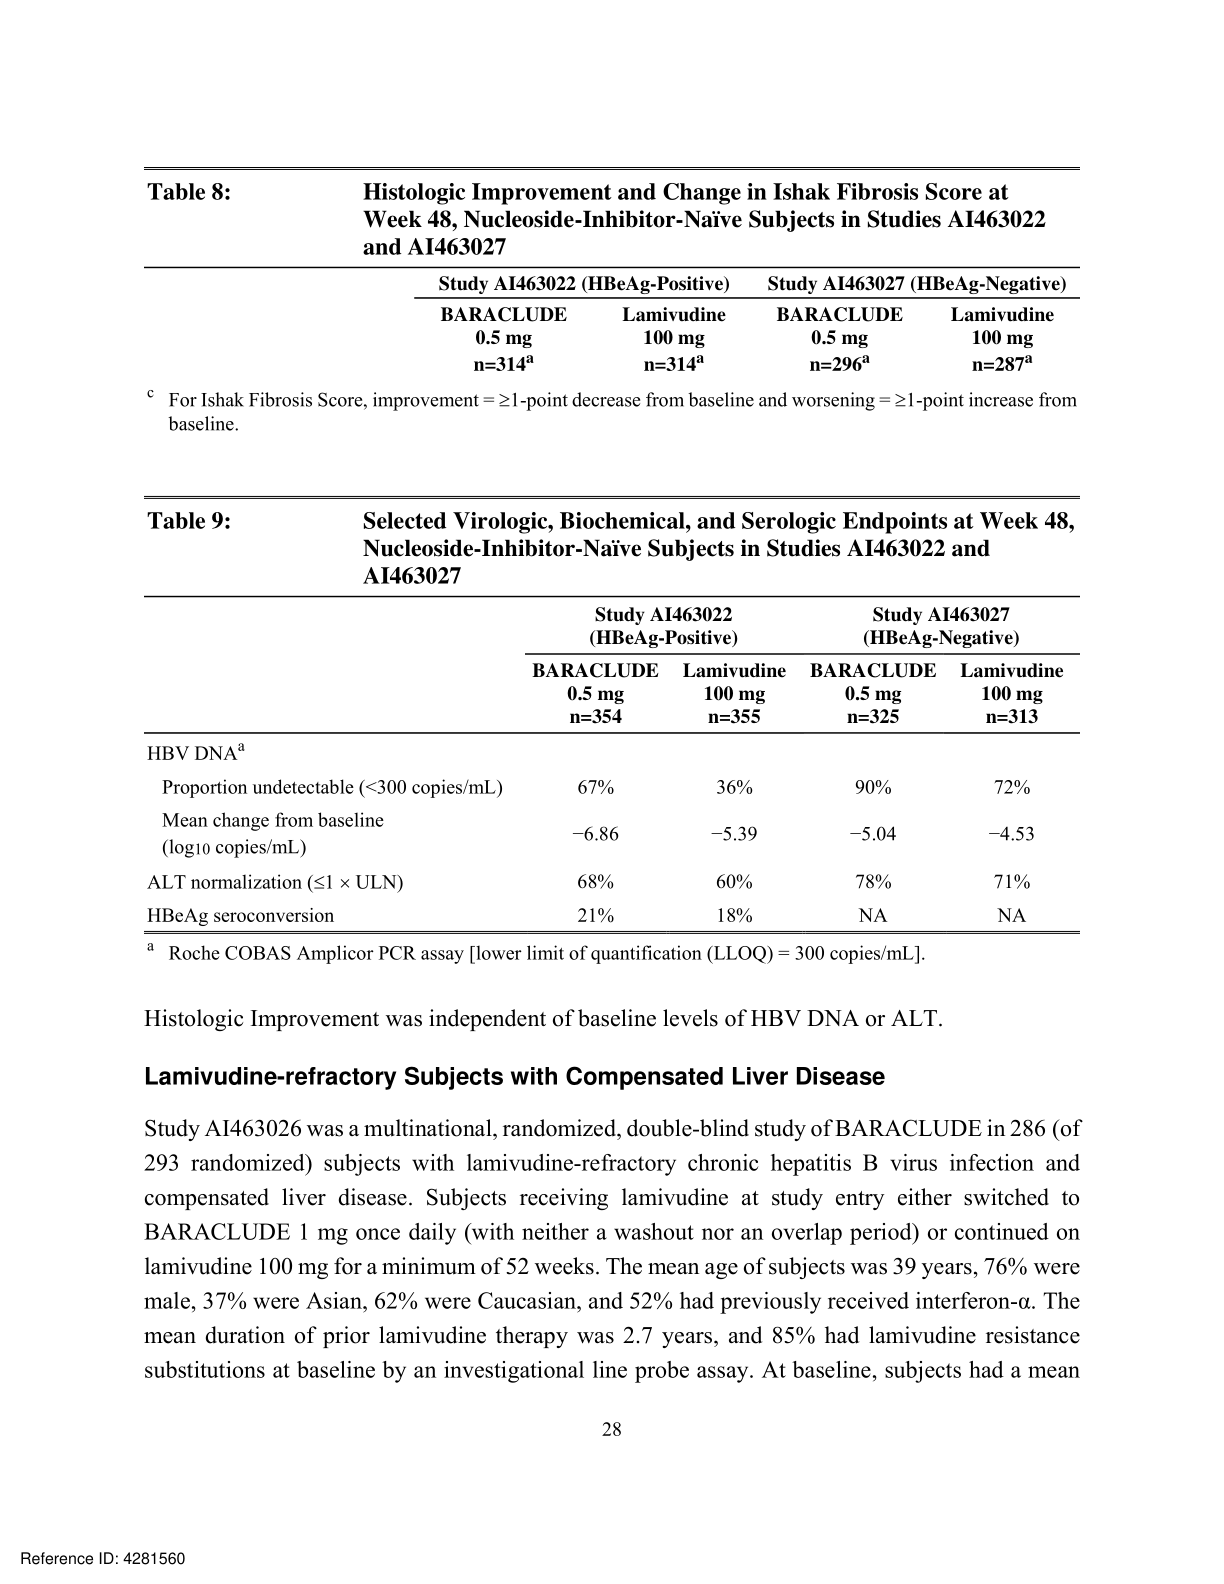partial_lined_merged_cells: (144, 495, 1081, 935), (143, 166, 1080, 379)
